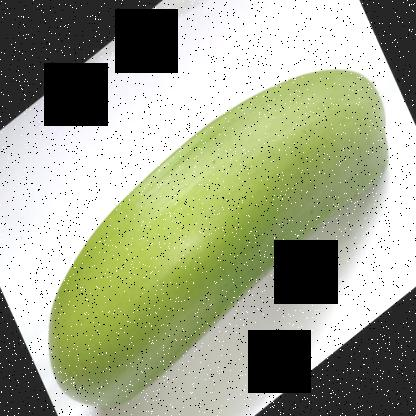freshunripe: (35, 61, 396, 415)
